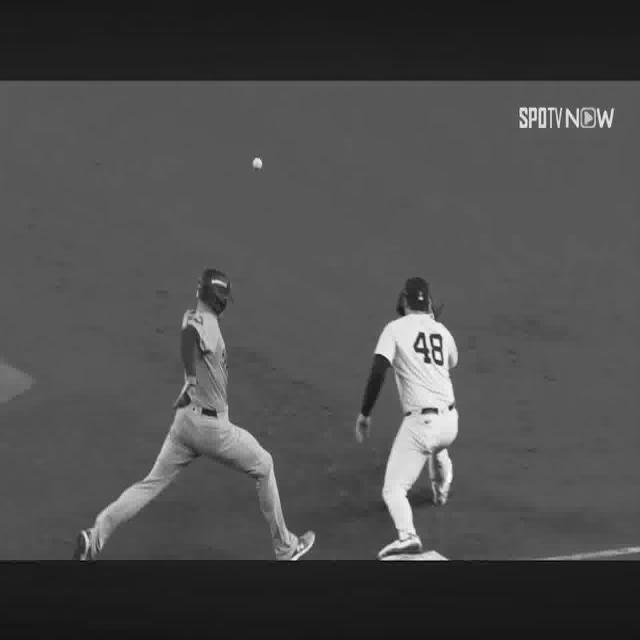base: (382, 550, 449, 562)
baseball: (252, 158, 263, 170)
baseball_glove: (396, 293, 405, 317)
shoe: (378, 533, 422, 560), (286, 530, 315, 562), (73, 528, 98, 563), (432, 472, 452, 505)
